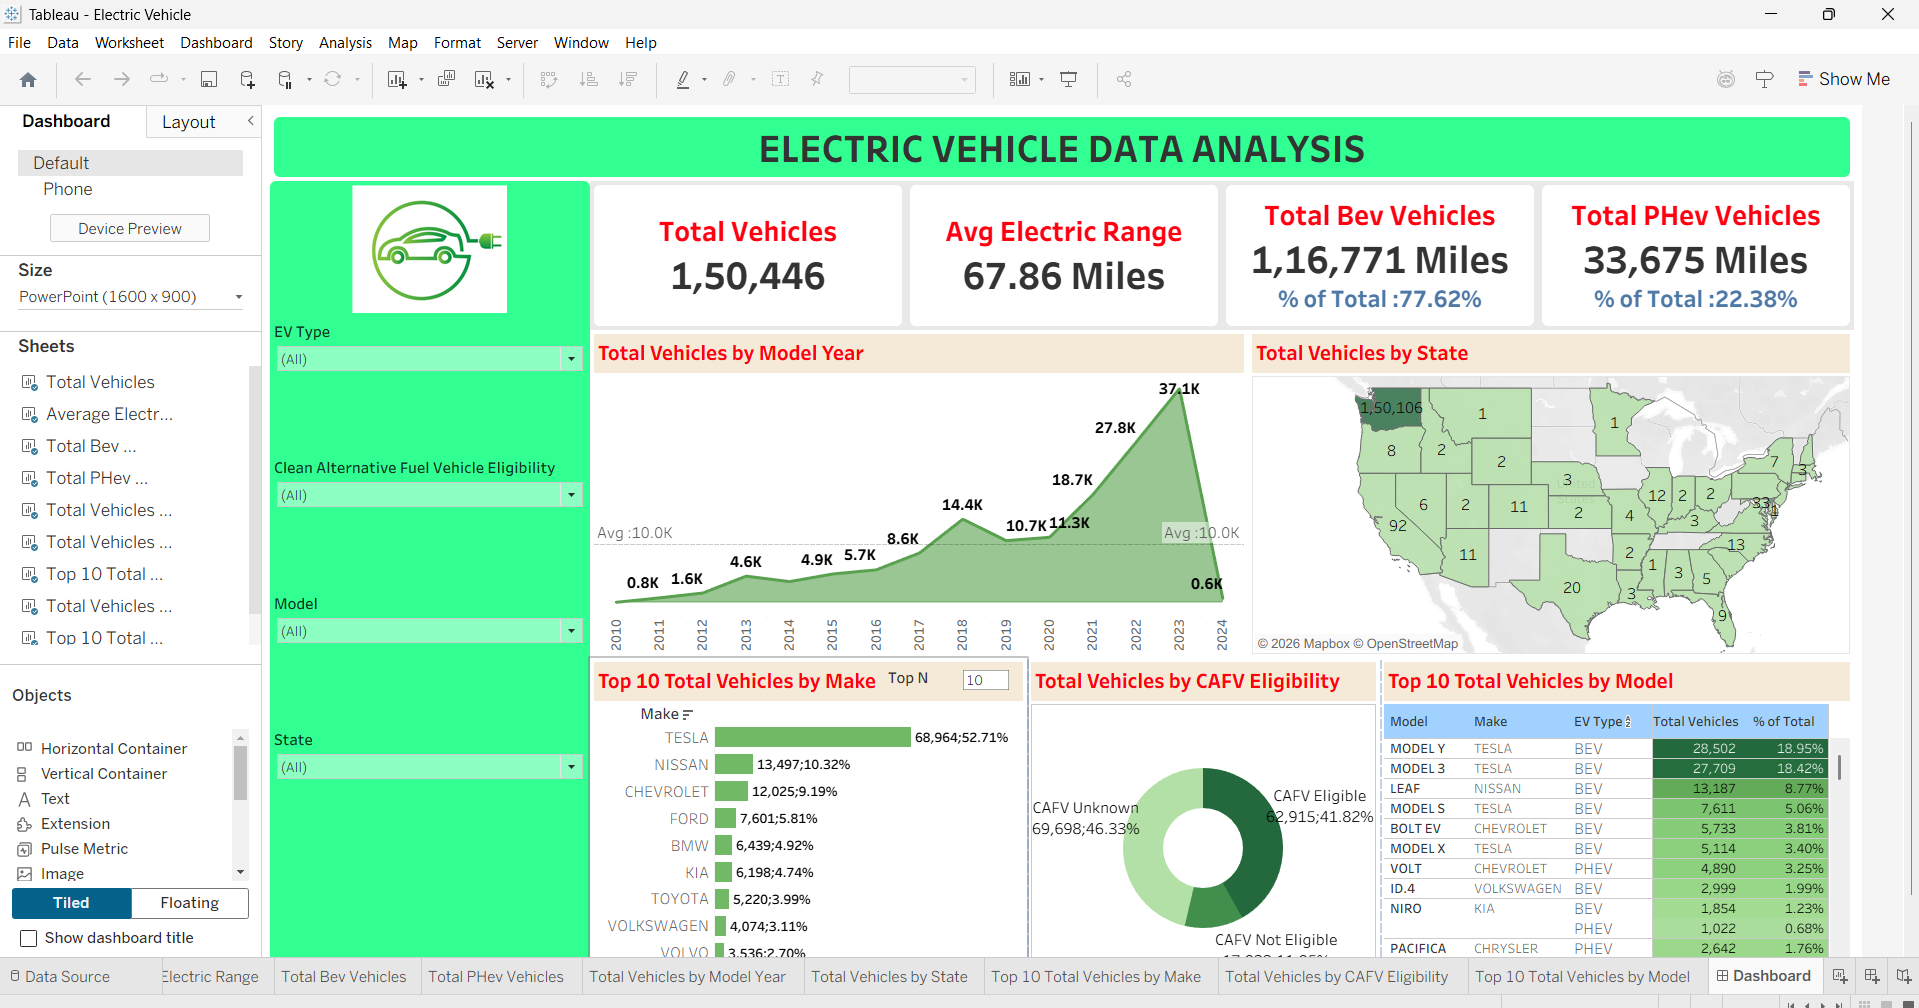

What the dashboard file says about the page in this screenshot:
{"tool":"tableau","page":{"name":"Dashboard ","canvas":[1600,900],"ordinal":0},"visuals":[{"type":"title","box":[8,8,1584,68]},{"type":"image","param":"C:/Users/Akash/OneDrive/画像/Screenshots/Screenshot 2026-04-08 121727.png","box":[8,76,320,136]},{"type":"worksheet","title":"Total Vehicles","mark":"Automatic","box":[328,76,316,149]},{"type":"worksheet","title":"Average Electric Range","mark":"Automatic","box":[644,76,316,149]},{"type":"worksheet","title":"Total Bev Vehicles","mark":"Automatic","box":[960,76,316,149]},{"type":"worksheet","title":"Total PHev Vehicles ","mark":"Automatic","box":[1276,76,316,149]},{"type":"filter","title":"Total Vehicles by Model Year","param":"[federated.1pcleg31l2g52w1c7s01s0o8l7gk].[none:Electric Vehicle Type:nk]","box":[8,212,320,136]},{"type":"worksheet","title":"Total Vehicles by Model Year","mark":"Area","rows":["Calculation_0889561693052928","Calculation_0889561693052928"],"cols":["Model Year"],"box":[328,225,658,328]},{"type":"worksheet","title":"Total Vehicles by State","mark":"Multipolygon","box":[986,225,606,328]},{"type":"filter","title":"Total Vehicles by Model Year","param":"[federated.1pcleg31l2g52w1c7s01s0o8l7gk].[none:Clean Alternative Fuel Vehicle (C","box":[8,348,320,136]},{"type":"filter","title":"Total Vehicles by Model Year","param":"[federated.1pcleg31l2g52w1c7s01s0o8l7gk].[none:Model:nk]","box":[8,484,320,136]},{"type":"worksheet","title":"Top 10 Total Vehicles by Make","mark":"Automatic","rows":["Make"],"cols":["Calculation_0889561693052928"],"box":[328,553,437,338.9]},{"type":"worksheet","title":"Total Vehicles by CAFV Eligibility","mark":"Pie","rows":["Calculation_1016555922984961","Calculation_1016555922984961"],"box":[765,553,353,338.9]},{"type":"worksheet","title":"Top 10 Total Vehicles by Model","mark":"Square","rows":["Model","Make","Electric Vehicle Type"],"box":[1118,553,474,338.9]},{"type":"parameter","param":"[Parameters].[Parameter 1]","box":[626,562,124,24]},{"type":"filter","title":"Total Vehicles by Model Year","param":"[federated.1pcleg31l2g52w1c7s01s0o8l7gk].[none:State:nk]","box":[8,620,320,136]},{"type":"blank","box":[8,756,320,136]}]}

Visuals, with their boxes on the page's 1600x900 design canvas (x1, y1, x2, y2). These are canvas units, not pixel positions in the 1919x1008 screenshot, which may show the page scaled, cropped or inside an application window:
title: locate(8, 8, 1592, 76)
image: locate(8, 76, 328, 212)
"Total Vehicles" worksheet: locate(328, 76, 644, 225)
"Average Electric Range" worksheet: locate(644, 76, 960, 225)
"Total Bev Vehicles" worksheet: locate(960, 76, 1276, 225)
"Total PHev Vehicles " worksheet: locate(1276, 76, 1592, 225)
"Total Vehicles by Model Year" filter: locate(8, 212, 328, 348)
"Total Vehicles by Model Year" worksheet (Area marks): locate(328, 225, 986, 553)
"Total Vehicles by State" worksheet (Multipolygon marks): locate(986, 225, 1592, 553)
"Total Vehicles by Model Year" filter: locate(8, 348, 328, 484)
"Total Vehicles by Model Year" filter: locate(8, 484, 328, 620)
"Top 10 Total Vehicles by Make" worksheet: locate(328, 553, 765, 892)
"Total Vehicles by CAFV Eligibility" worksheet (Pie marks): locate(765, 553, 1118, 892)
"Top 10 Total Vehicles by Model" worksheet (Square marks): locate(1118, 553, 1592, 892)
parameter: locate(626, 562, 750, 586)
"Total Vehicles by Model Year" filter: locate(8, 620, 328, 756)
blank: locate(8, 756, 328, 892)
